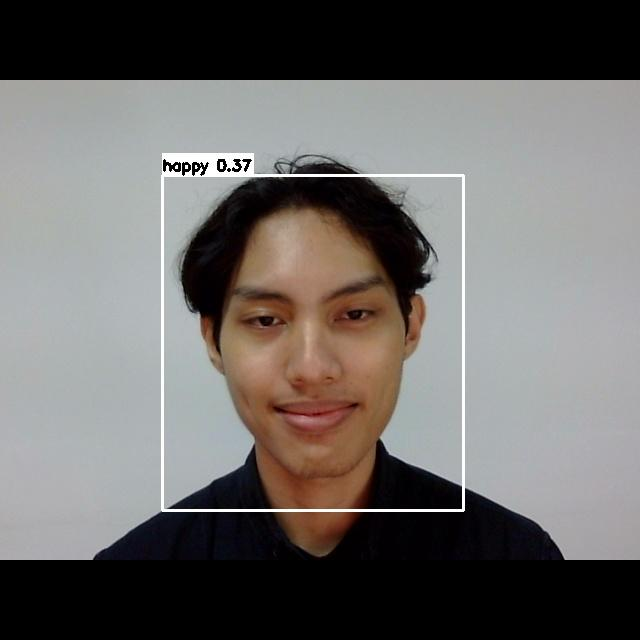Happy: (207, 265, 426, 464)
